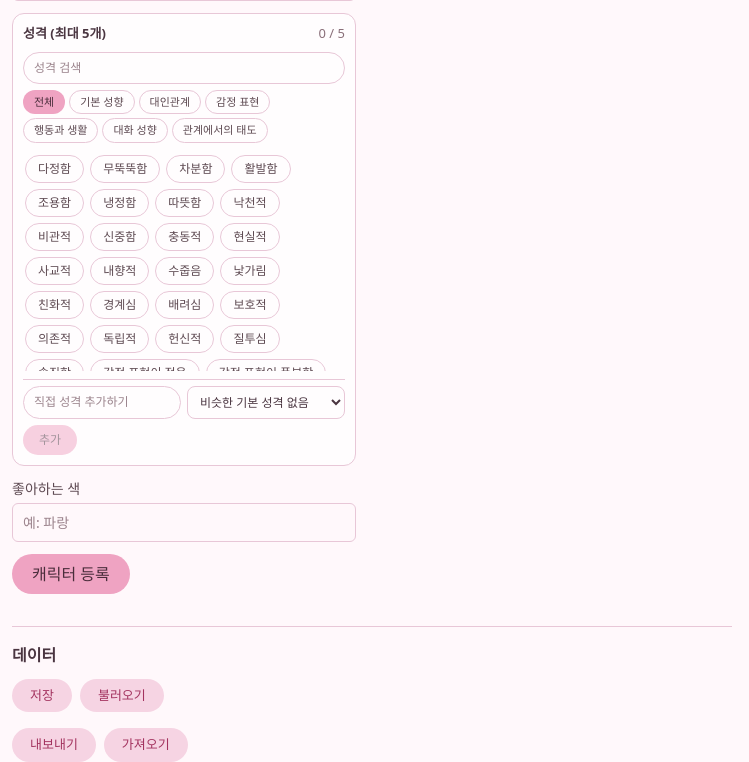
Scenario: SetupScreen: 데이터 섹션 (저장/불러오기) › 저장된 데이터가 없을 때 불러오기를 누르면 안내 메시지가 뜬다
(page scrolled)
What coordinates should you click on to do the following:
click the button "불러오기"
I would click on:
 (122, 695)
Its box is left=80, top=678, right=164, bottom=712.
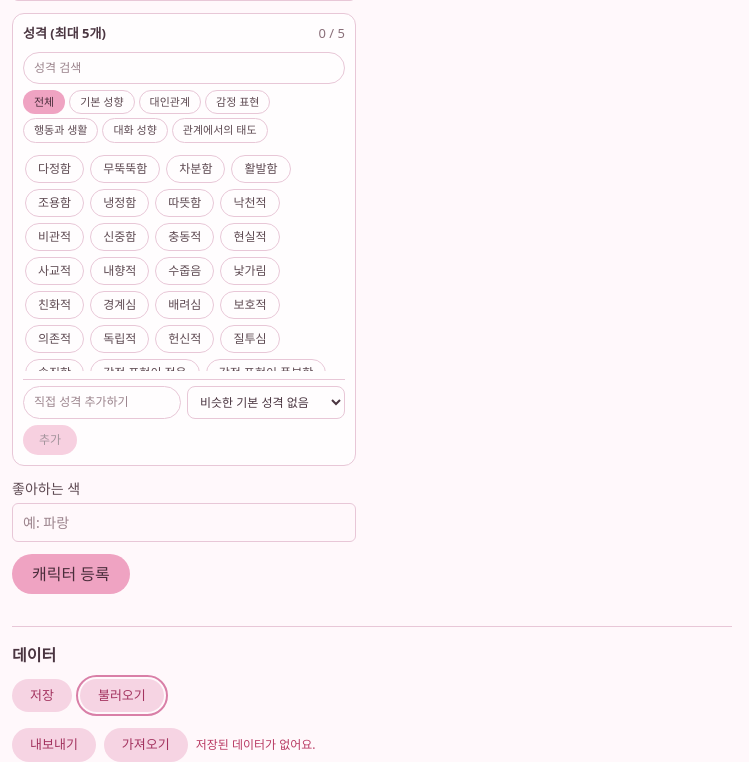
Expected: the text "저장된 데이터가 없어요." is shown, left=196, top=736, right=316, bottom=754
